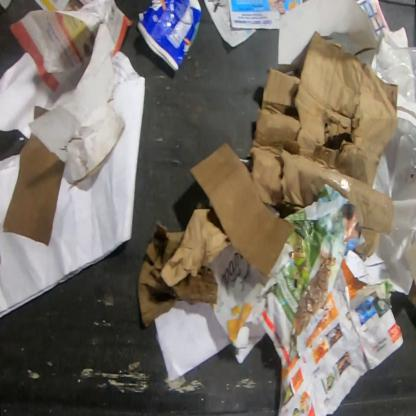cardboard: (248, 29, 398, 258), (26, 23, 124, 188), (188, 142, 296, 278), (137, 208, 232, 328), (137, 0, 203, 71)
soft_plastic: (375, 38, 415, 121)
